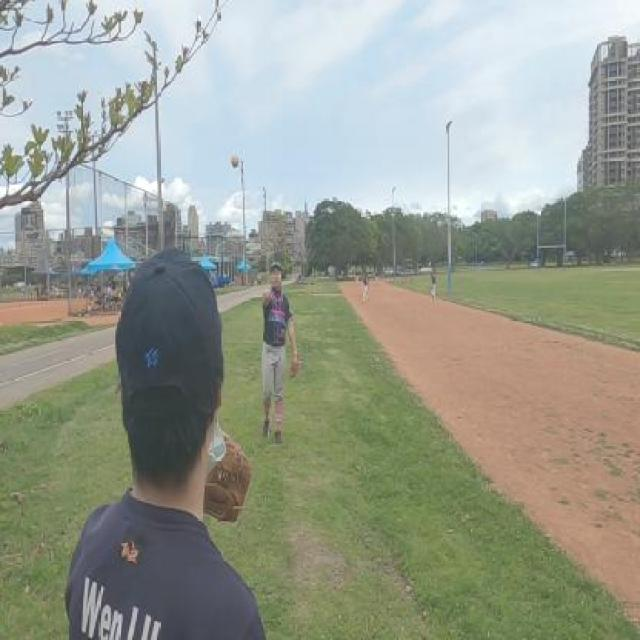ball: (231, 156, 239, 168)
